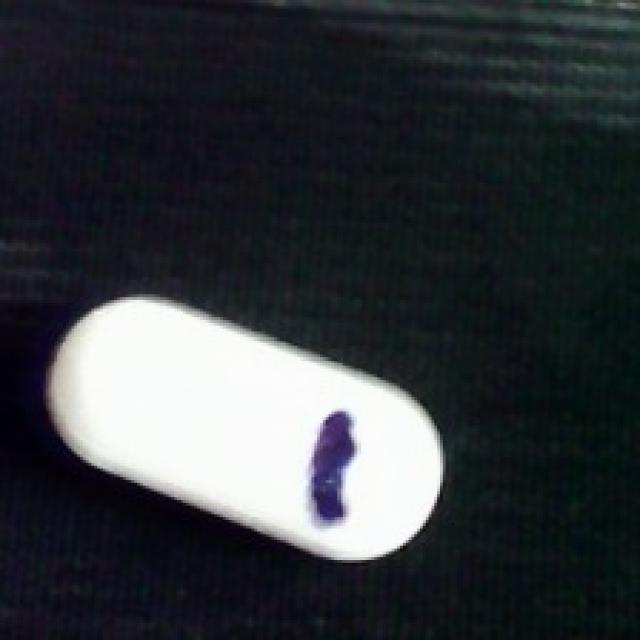defected: (31, 294, 446, 566)
